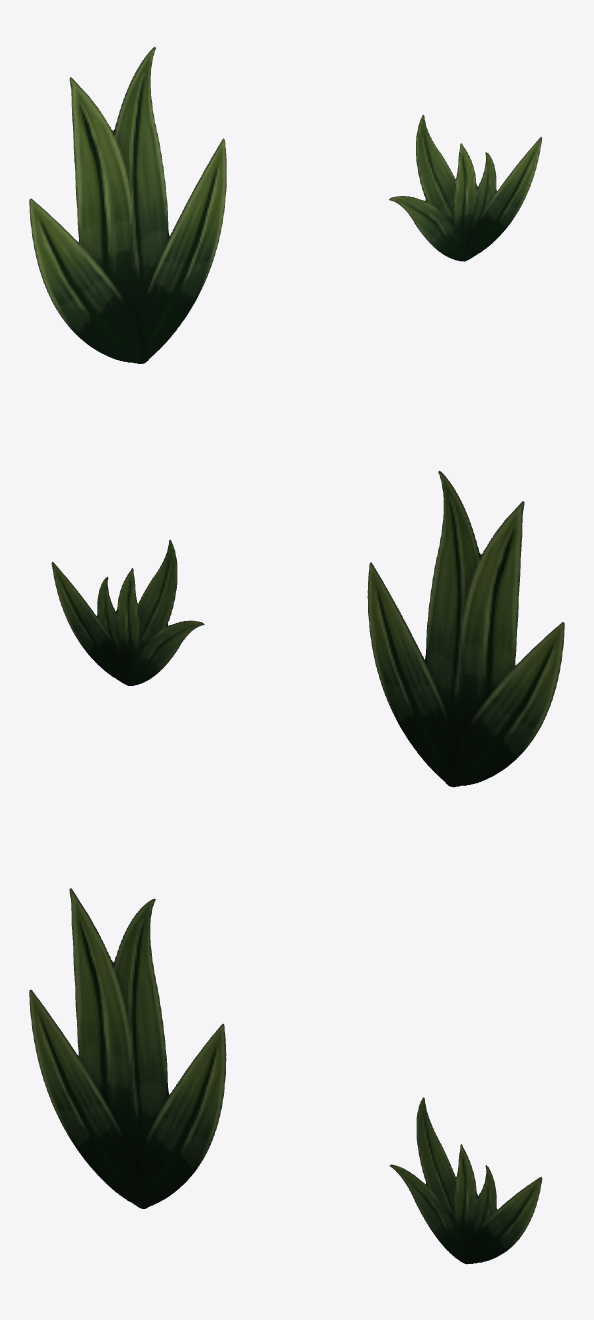
Rendered from Grass.fbx.
3 views of the same model, one above another, from view 1: azimuth 30°, elevation 25°; view 2: azimuth 150°, elevation 25°; view 3: azimuth 330°, elevation 25° (orthographic).
Visible parts, largest first — view 1: pPlane23, pPlane25; view 2: pPlane23, pPlane25; view 3: pPlane23, pPlane25.
Part boxes in pixels (x1,y1,x2,y2): pPlane23: (29, 47, 226, 363); pPlane25: (389, 114, 542, 261); pPlane23: (367, 471, 564, 787); pPlane25: (51, 539, 204, 685); pPlane23: (29, 888, 226, 1208); pPlane25: (389, 1097, 542, 1264).
Bounding box in the file's own units: 0.7315 × 0.4485 × 0.00256.
